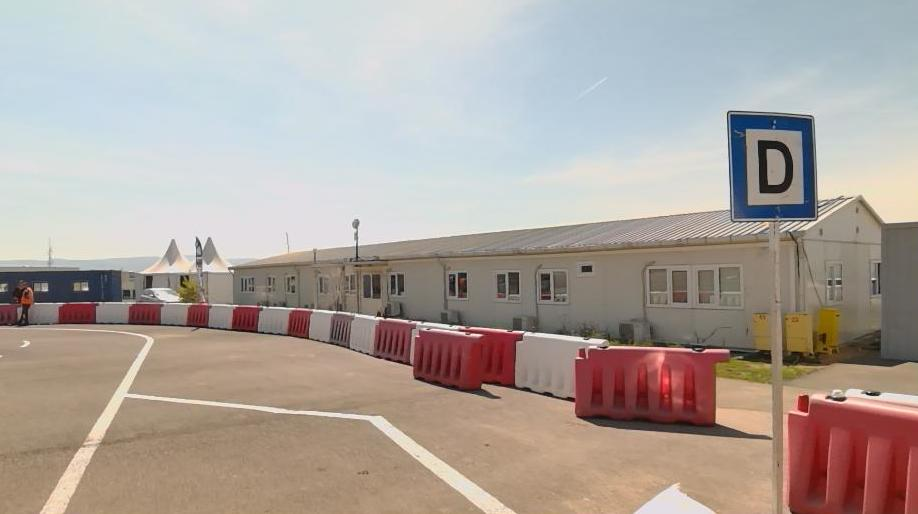nesne: (65, 391, 521, 513), (125, 392, 517, 513), (0, 326, 154, 514), (0, 326, 153, 514), (788, 392, 917, 512), (575, 347, 730, 424), (727, 109, 818, 222), (515, 332, 610, 393), (413, 328, 480, 392), (460, 327, 522, 386), (635, 482, 716, 512), (411, 320, 459, 366), (373, 317, 415, 366), (349, 314, 381, 354), (259, 306, 294, 334), (310, 309, 335, 344), (17, 282, 36, 326), (331, 311, 353, 348), (59, 303, 97, 324), (130, 302, 165, 324), (96, 302, 132, 322), (235, 305, 262, 331), (289, 308, 312, 338), (210, 304, 236, 329), (162, 302, 189, 325), (29, 302, 58, 323), (190, 303, 211, 326), (0, 303, 16, 325), (20, 338, 30, 348)
